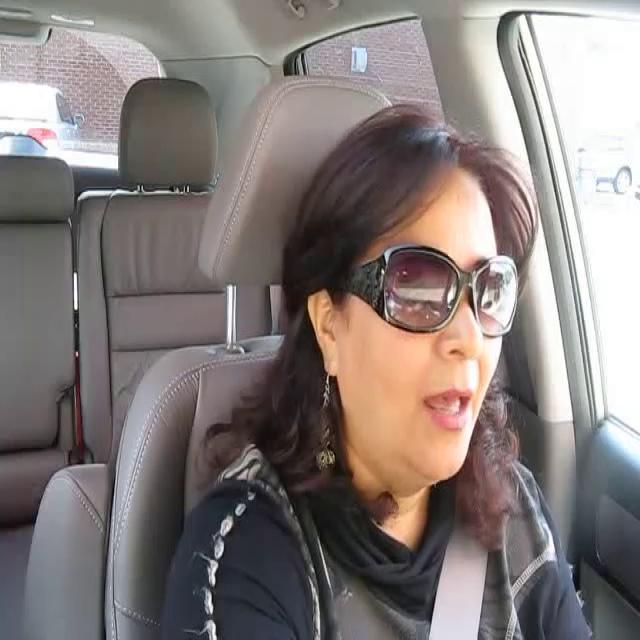open: (417, 381, 477, 435)
